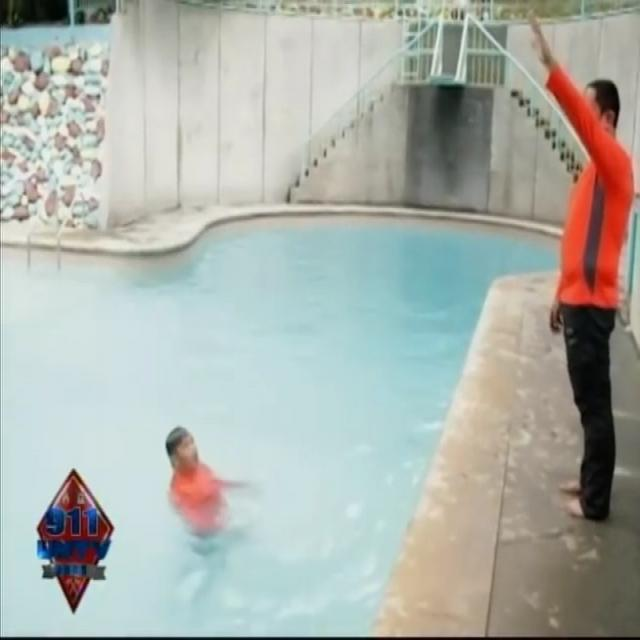drowning: (142, 414, 255, 564)
out of water: (520, 19, 636, 531)
